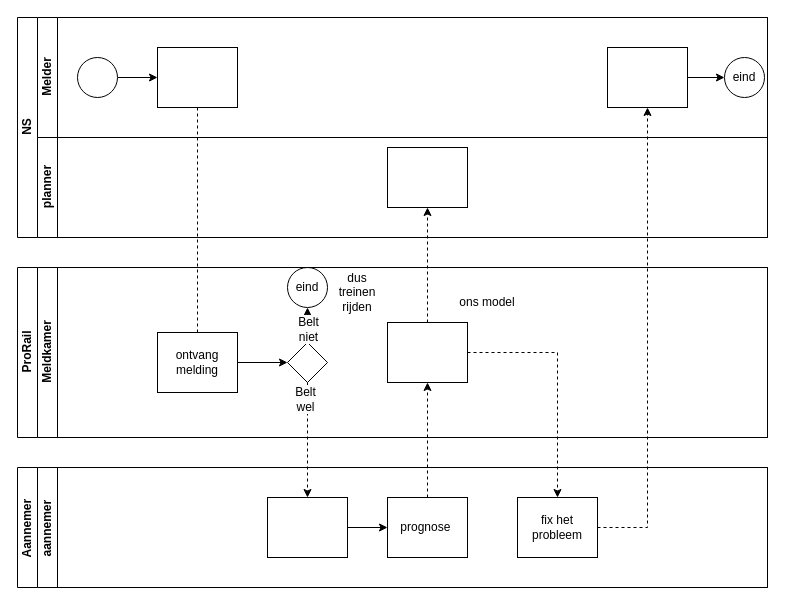
Some shapes in this 785 by 605 pixel diagram are drawn without their labels. Each missing label, with the centre of its shape:
gaat naar probleem: pixel 307 527
melding: pixel 197 77
planning veranderen: pixel 427 177
start: pixel 97 77
tijd schatting: pixel 427 352
treinen rijden weer: pixel 647 77
